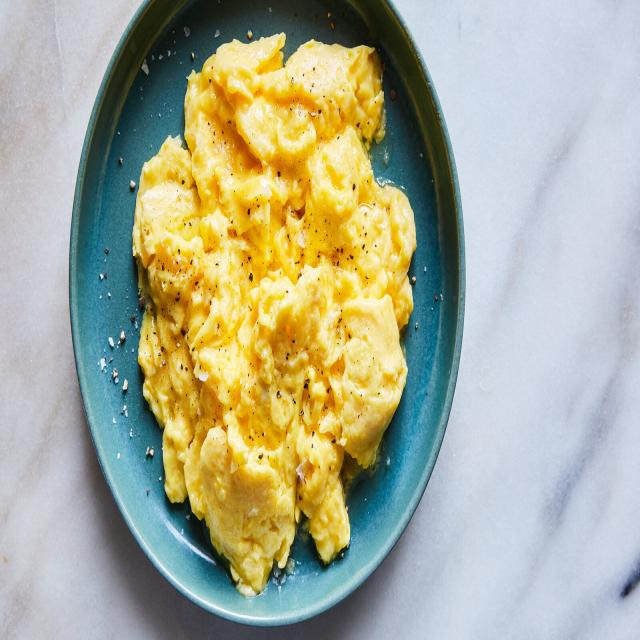eggs: (132, 52, 411, 556)
